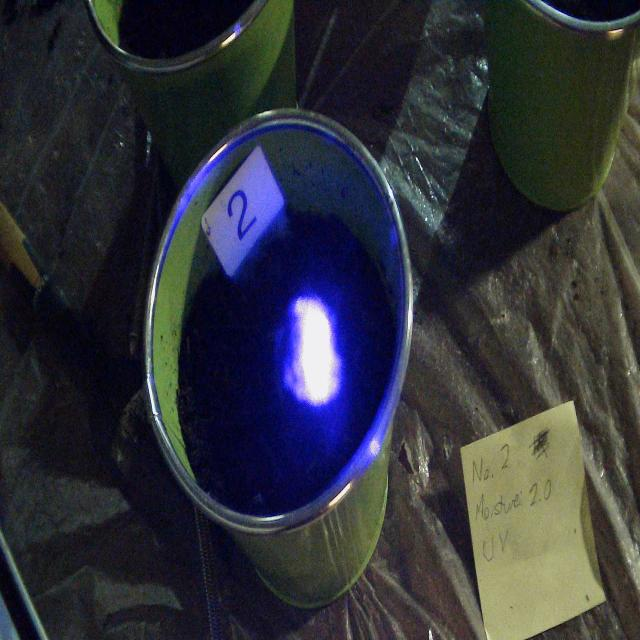soil-moisture-2.0: (281, 294, 344, 402)
